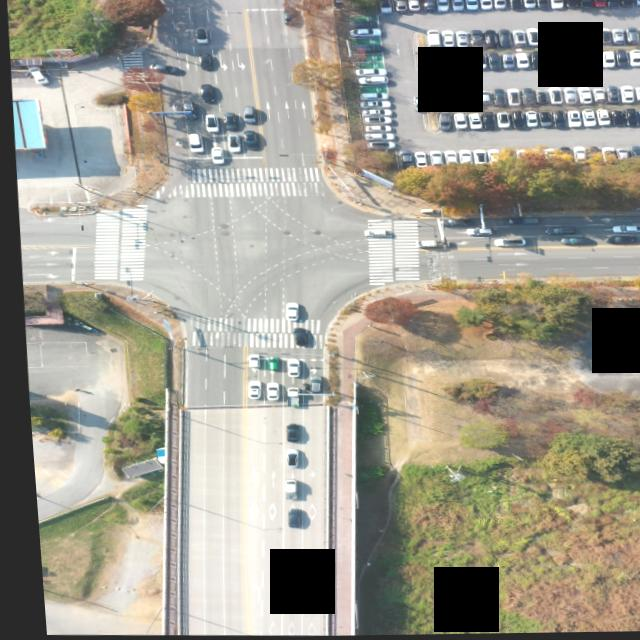car: (423, 32, 438, 49), (568, 149, 583, 163)
small_truck: (501, 217, 536, 227), (276, 386, 291, 407), (412, 238, 447, 247), (273, 481, 288, 501)
